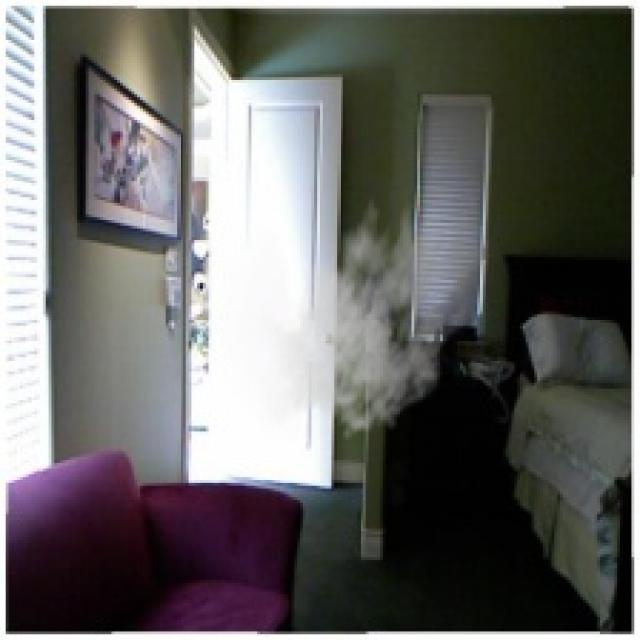smoke: (248, 186, 492, 443)
